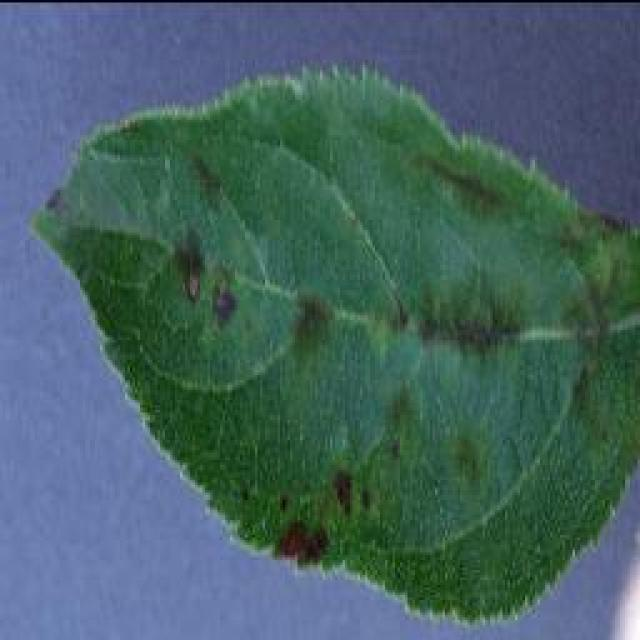apple scab disease: (28, 57, 638, 625)
